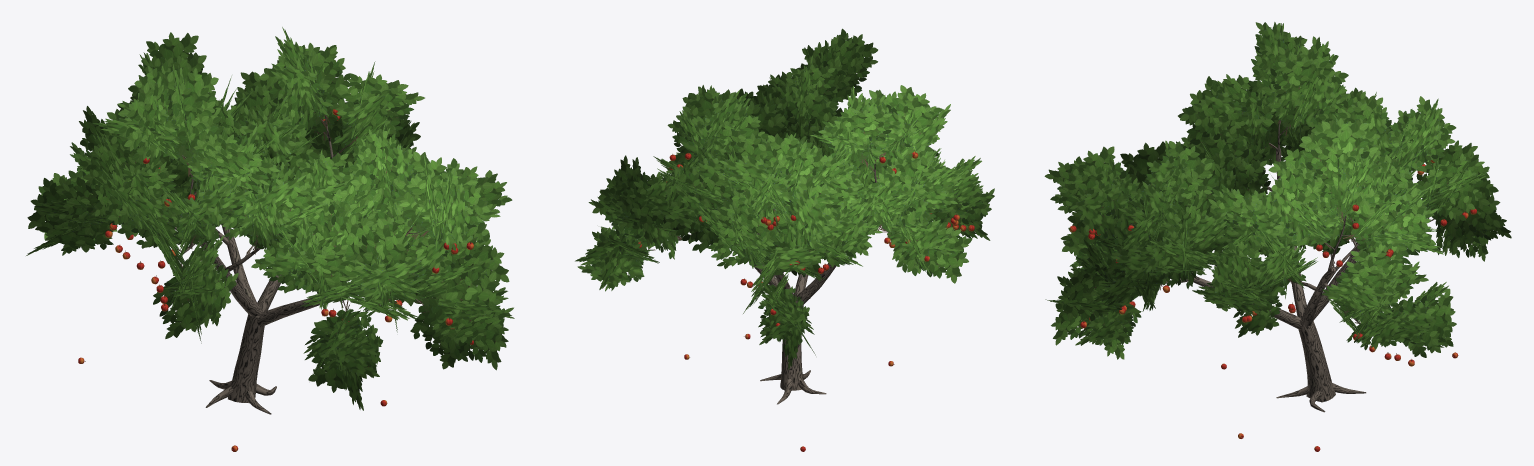
Rendered from apple-tree.glb.
3 renders of one model, left to right at view 1: azimuth 30°, elevation 25°; view 2: azimuth 150°, elevation 25°; view 3: azimuth 270°, elevation 25°, orthographic. The views are drawn at different scales.
Parts seen in each view (by area): view 1: Leaves, Trunk, Apples; view 2: Leaves, Trunk, Apples; view 3: Leaves, Trunk, Apples.
Part boxes in pixels (x1=…): Leaves: x1=26, y1=27, x2=514, y2=410; Trunk: x1=174, y1=115, x2=423, y2=414; Apples: x1=78, y1=109, x2=473, y2=451; Leaves: x1=575, y1=28, x2=994, y2=369; Trunk: x1=648, y1=160, x2=888, y2=404; Apples: x1=638, y1=151, x2=974, y2=451; Leaves: x1=1044, y1=22, x2=1511, y2=359; Trunk: x1=1131, y1=120, x2=1366, y2=412; Apples: x1=1069, y1=160, x2=1476, y2=451.
Size of the model in its own units: 5.81 by 4.82 by 6.3.
4 materials, 3 textured.
